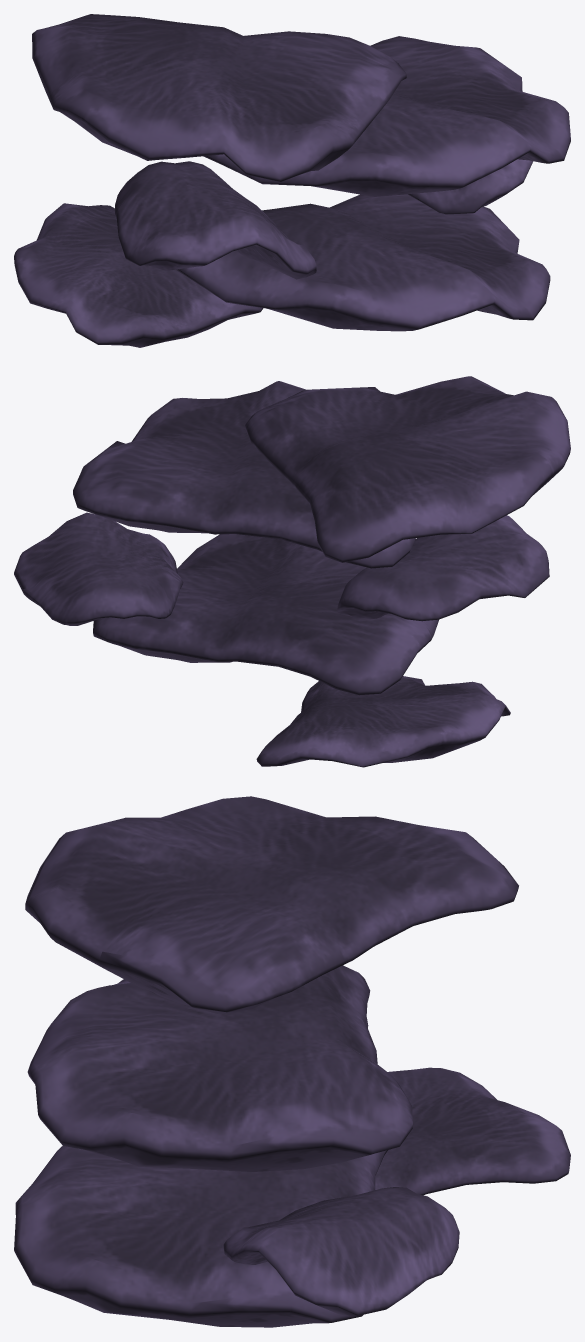
File: gl_fungus.glb
3 views of the same model, one above another, from view 1: azimuth 30°, elevation 25°; view 2: azimuth 150°, elevation 25°; view 3: azimuth 270°, elevation 25° (orthographic). The views are drawn at different scales.
Visible parts, largest first — view 1: gl_fungus; view 2: gl_fungus; view 3: gl_fungus.
Boxes of the visible parts, left/top/right/bottom form: gl_fungus: left=14, top=14, right=570, bottom=347; gl_fungus: left=14, top=376, right=570, bottom=767; gl_fungus: left=14, top=796, right=570, bottom=1327.
Bounding box in the file's own units: 1.37 × 0.767 × 1.1.
Materials: 1 (1 with a texture image).
